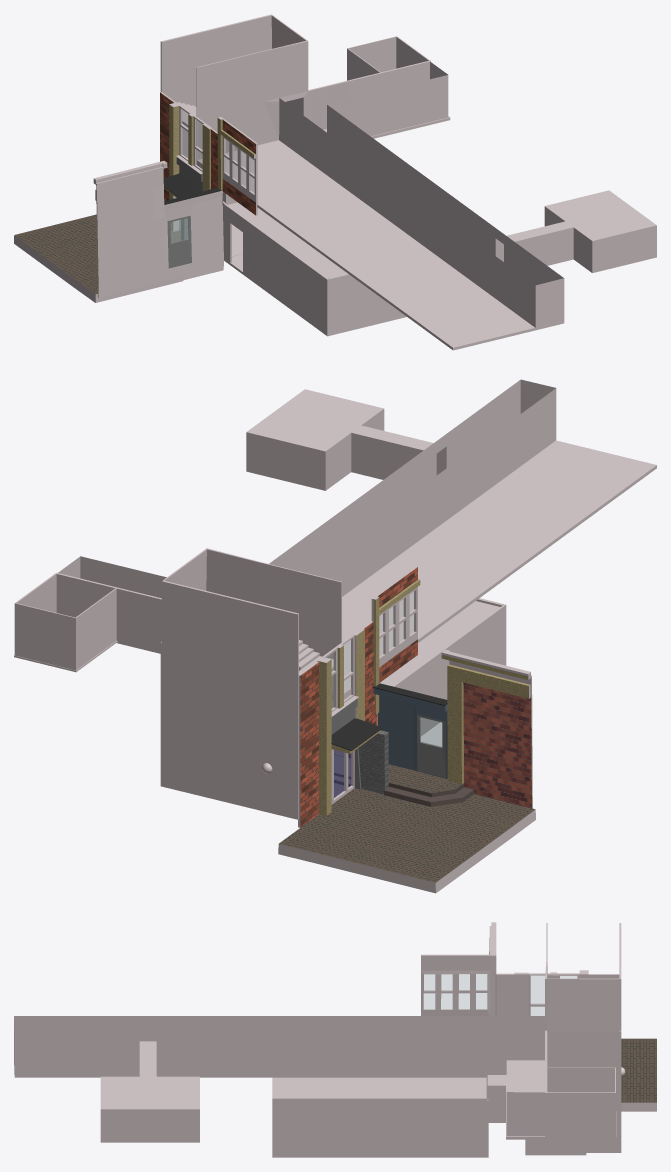
File: schoolCHC.glb
3 views of the same model, one above another, from view 1: azimuth 30°, elevation 25°; view 2: azimuth 150°, elevation 25°; view 3: azimuth 270°, elevation 25° (orthographic). The views are drawn at different scales.
Parts seen in each view (by area): view 1: Cube; view 2: Cube; view 3: Cube.
Boxes of the visible parts, <box> form: Cube: <box>14,14,656,350</box>; Cube: <box>14,379,656,893</box>; Cube: <box>14,922,656,1157</box>.
Size of the model in its own units: 91 by 42.52 by 130.
Materials: 13 (5 with a texture image).
